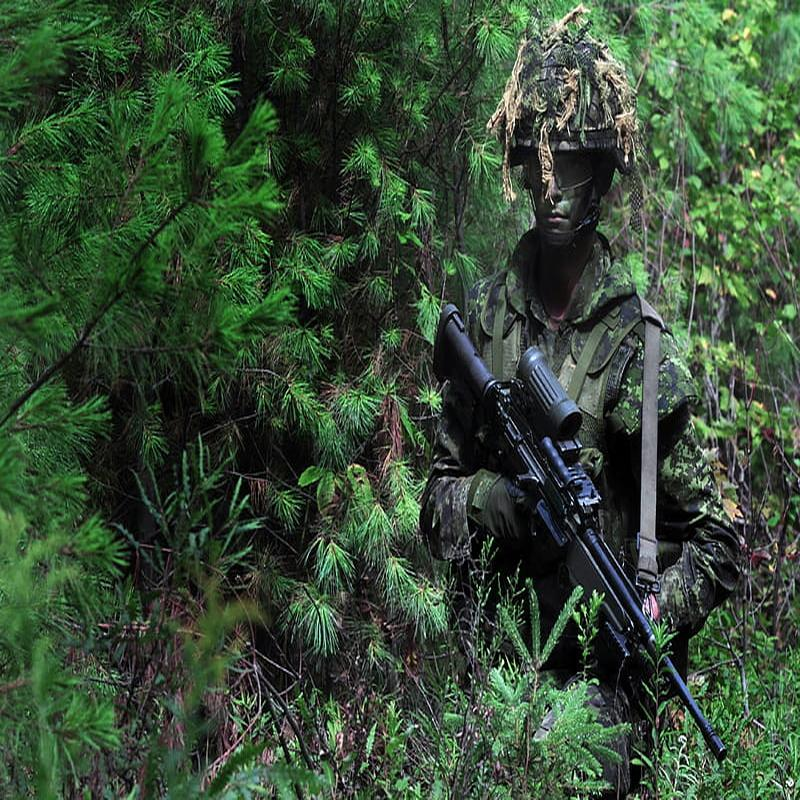GUN: (412, 287, 745, 763)
